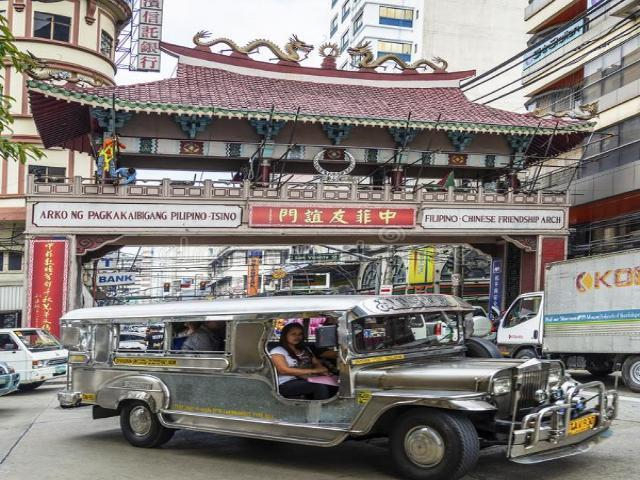jeepney: (43, 273, 639, 480)
